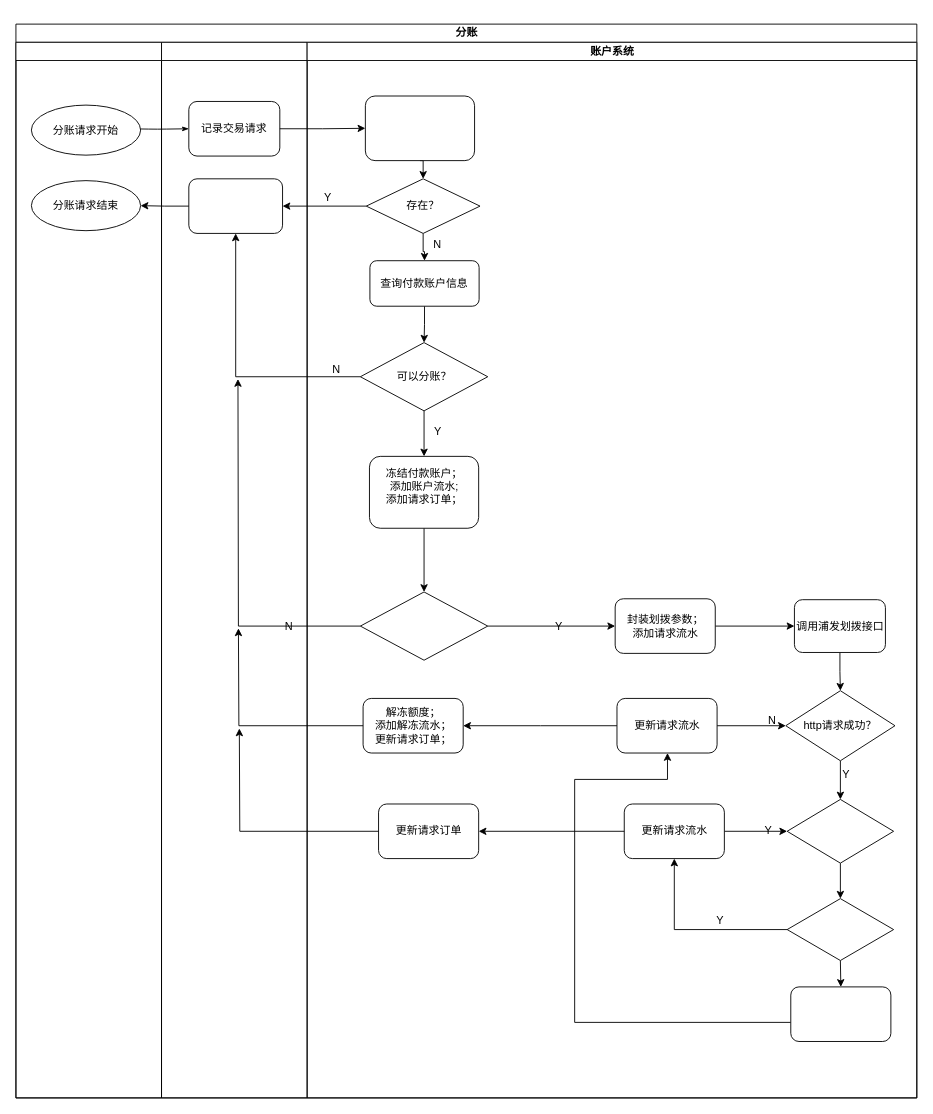
Image size: 933x1114. Some labels were removed from this diagram. Here are the shapes that lost their labels. From the top down, the box of each, then its label:
(364, 95, 475, 161): 查询账户请求订单
(188, 178, 283, 233): 返回交易
(15, 41, 162, 1098): 业务接入方
(161, 41, 307, 1098): 支付系统
(359, 591, 488, 660): 成功？
(786, 799, 894, 863): 划账成功？
(786, 898, 894, 961): 处理中？
(790, 986, 891, 1041): 处理失败
